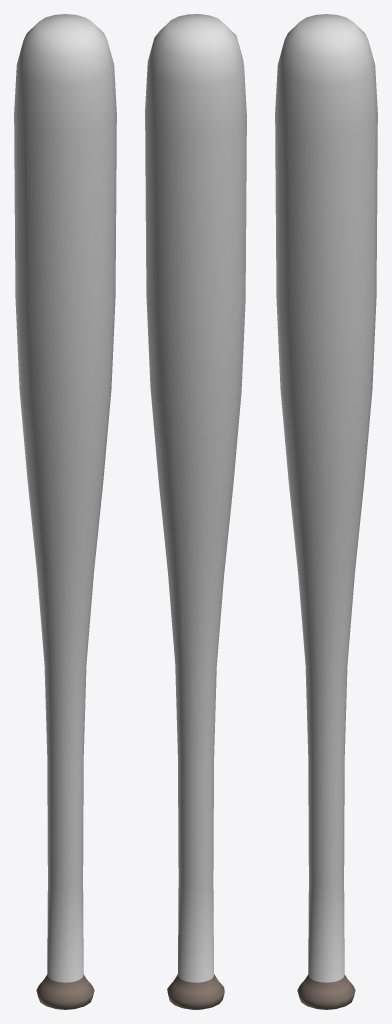
File: SM_ClubBat.fbx
3 views of the same model, side by side, from view 1: azimuth 90°, elevation 25°; view 2: azimuth 150°, elevation 25°; view 3: azimuth 270°, elevation 25° (orthographic).
Parts seen in each view (by area): view 1: SM_ClubBat; view 2: SM_ClubBat; view 3: SM_ClubBat.
Part boxes in pixels (left/top/right/bottom): SM_ClubBat: left=14, top=14, right=116, bottom=1009; SM_ClubBat: left=145, top=14, right=246, bottom=1009; SM_ClubBat: left=275, top=14, right=377, bottom=1009.
Bounding box in the file's own units: 0.152 × 1.6 × 0.152.
